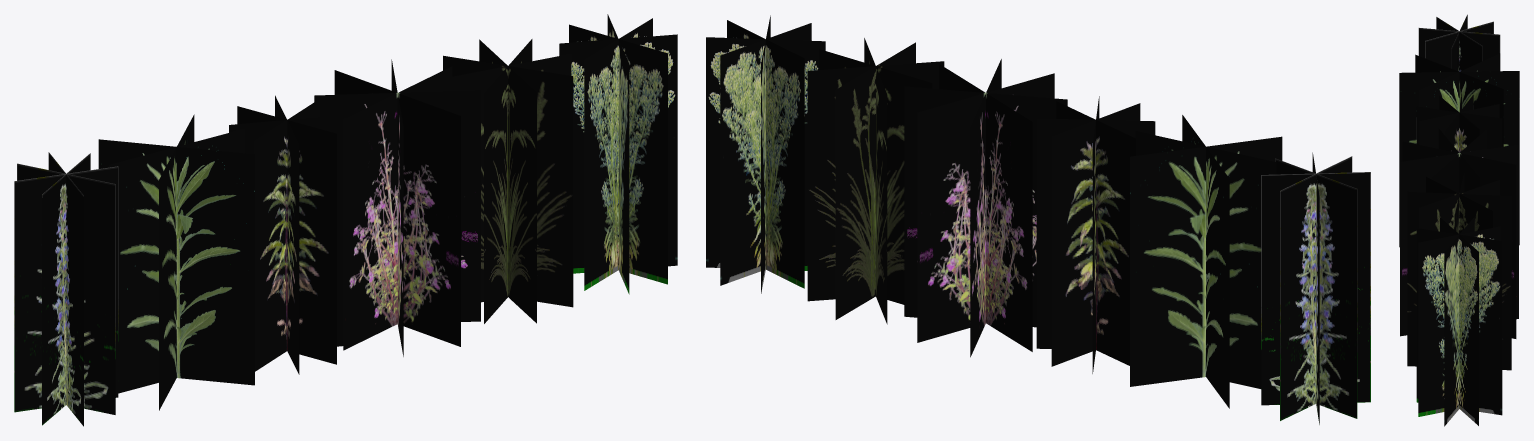
Rendered from Foliage_01.dae.
3 views of the same model, side by side, from view 1: azimuth 30°, elevation 25°; view 2: azimuth 150°, elevation 25°; view 3: azimuth 270°, elevation 25° (orthographic). The views are drawn at different scales.
Parts seen in each view (by area): view 1: TexturesCom_NaturePlants0026_1_masked_S.003, TexturesCom_NaturePlants0033_9_M, TexturesCom_NaturePlants0072_1_masked_S, TexturesCom_NaturePlants0049_1_masked_S.001, NicePng_grass-png-transparent_8738791.001, TexturesCom_NaturePlants0032_1_masked_S; view 2: TexturesCom_NaturePlants0026_1_masked_S.003, TexturesCom_NaturePlants0033_9_M, TexturesCom_NaturePlants0049_1_masked_S.001, TexturesCom_NaturePlants0072_1_masked_S, NicePng_grass-png-transparent_8738791.001, TexturesCom_NaturePlants0032_1_masked_S; view 3: TexturesCom_NaturePlants0072_1_masked_S, TexturesCom_NaturePlants0026_1_masked_S.003, NicePng_grass-png-transparent_8738791.001, TexturesCom_NaturePlants0033_9_M, TexturesCom_NaturePlants0032_1_masked_S, TexturesCom_NaturePlants0049_1_masked_S.001.
Boxes of the visible parts, <box> form: TexturesCom_NaturePlants0026_1_masked_S.003: <box>314,59,480,356</box>; TexturesCom_NaturePlants0033_9_M: <box>98,114,254,410</box>; TexturesCom_NaturePlants0072_1_masked_S: <box>559,14,677,294</box>; TexturesCom_NaturePlants0049_1_masked_S.001: <box>14,152,118,426</box>; NicePng_grass-png-transparent_8738791.001: <box>443,39,573,323</box>; TexturesCom_NaturePlants0032_1_masked_S: <box>229,95,345,374</box>; TexturesCom_NaturePlants0026_1_masked_S.003: <box>904,59,1067,357</box>; TexturesCom_NaturePlants0033_9_M: <box>1130,115,1282,408</box>; TexturesCom_NaturePlants0049_1_masked_S.001: <box>1261,152,1370,424</box>; TexturesCom_NaturePlants0072_1_masked_S: <box>706,15,825,293</box>; NicePng_grass-png-transparent_8738791.001: <box>807,38,944,324</box>; TexturesCom_NaturePlants0032_1_masked_S: <box>1036,96,1155,373</box>; TexturesCom_NaturePlants0072_1_masked_S: <box>1416,217,1502,426</box>; TexturesCom_NaturePlants0026_1_masked_S.003: <box>1400,128,1518,338</box>; NicePng_grass-png-transparent_8738791.001: <box>1407,173,1511,370</box>; TexturesCom_NaturePlants0033_9_M: <box>1399,47,1519,247</box>; TexturesCom_NaturePlants0032_1_masked_S: <box>1416,95,1502,152</box>; TexturesCom_NaturePlants0049_1_masked_S.001: <box>1418,14,1500,71</box>.
Bounding box in the file's own units: 2.93 × 0.627 × 1.
